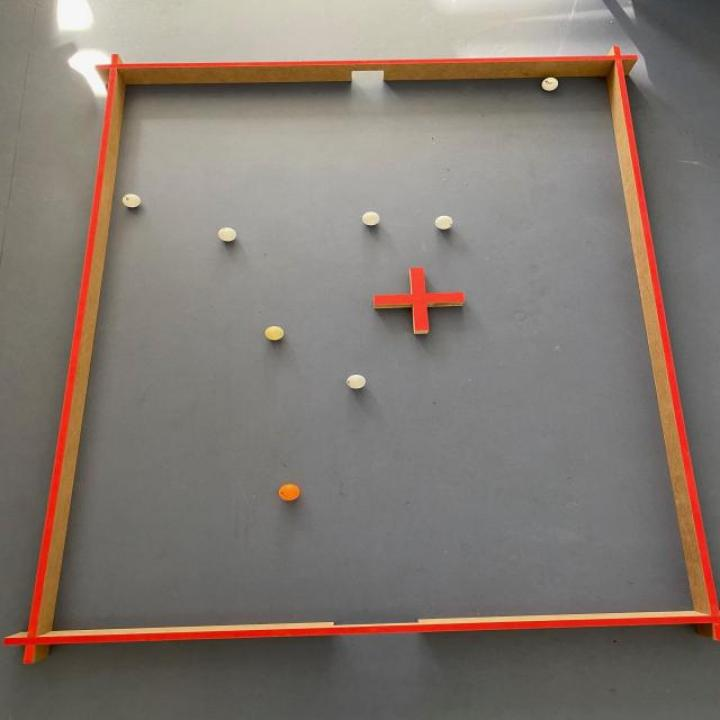orange: (274, 481, 306, 505)
white: (343, 371, 373, 394), (359, 208, 386, 231), (537, 72, 564, 94), (263, 321, 288, 344), (432, 214, 460, 234), (216, 224, 240, 247), (119, 190, 143, 210)
